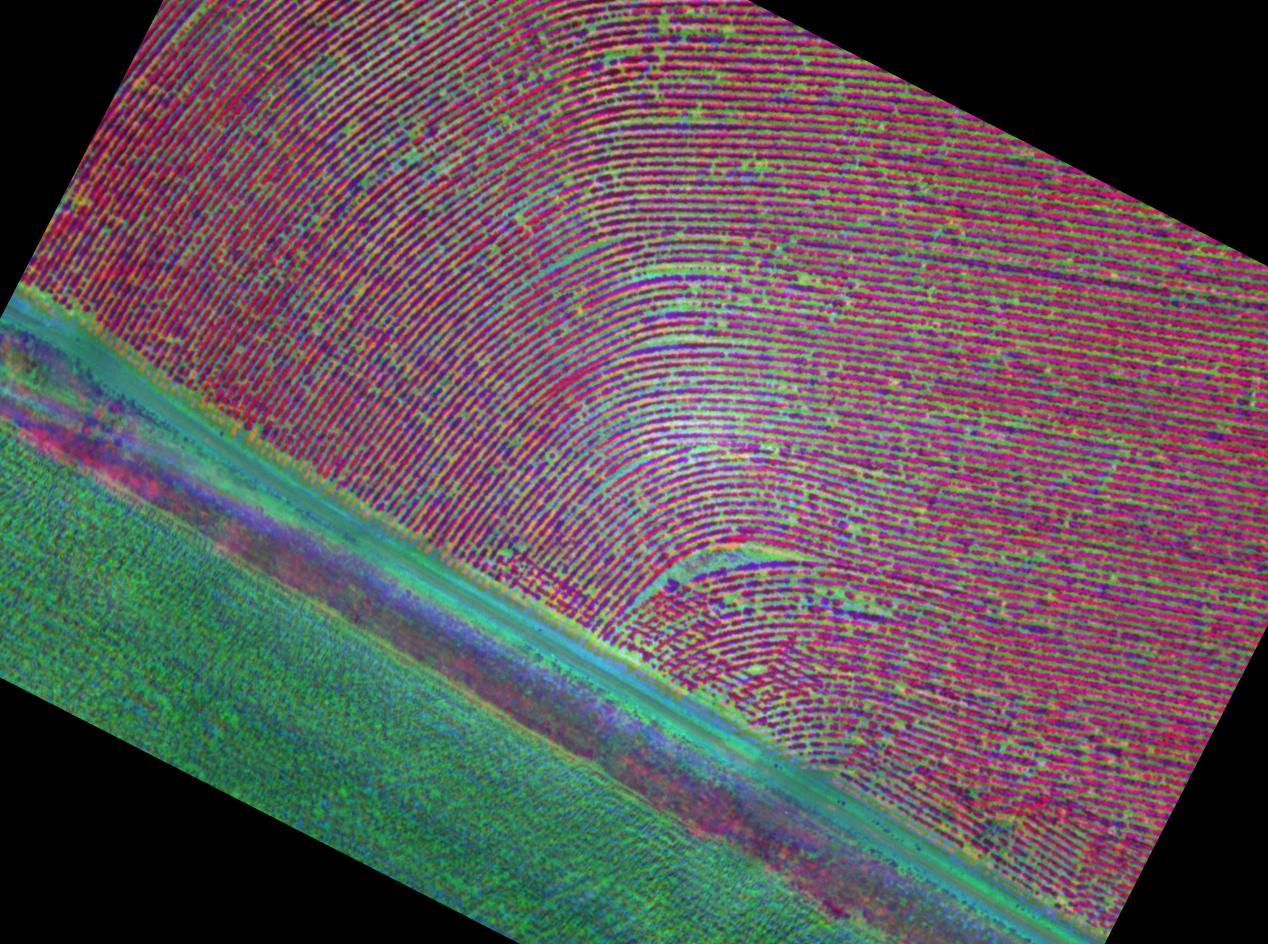dc: (578, 13, 737, 134), (628, 253, 757, 396), (651, 538, 814, 615), (301, 78, 411, 186), (783, 410, 900, 502)
